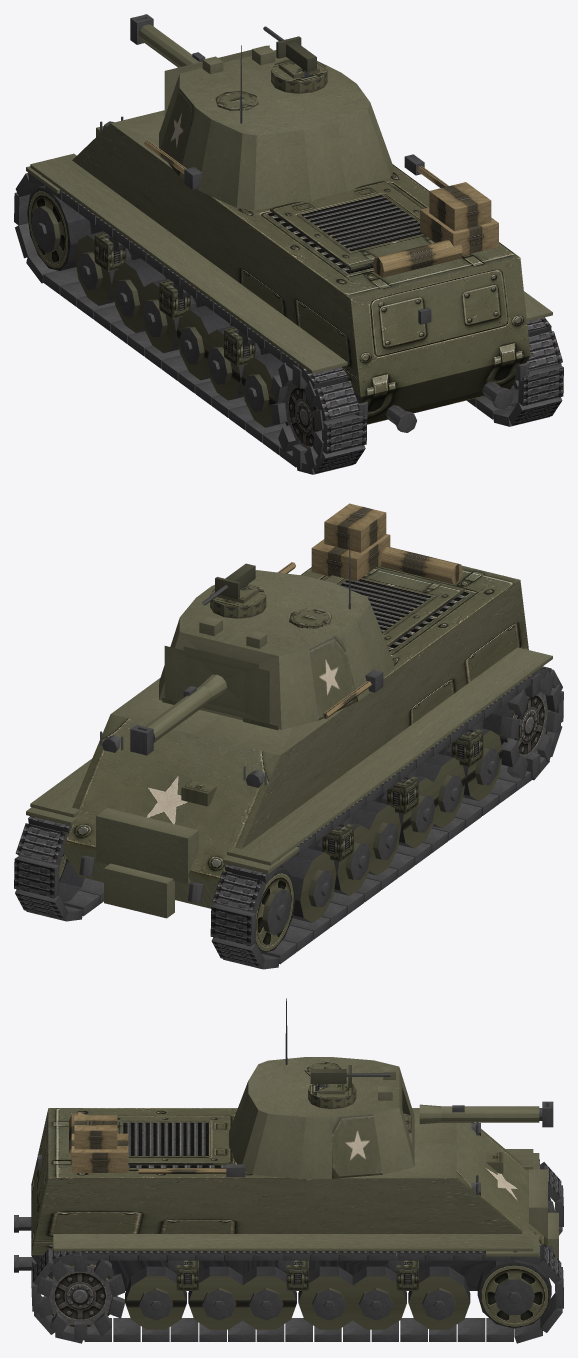
File: us_m4a3_val4k.glb
3 views of the same model, one above another, from view 1: azimuth 30°, elevation 25°; view 2: azimuth 150°, elevation 25°; view 3: azimuth 270°, elevation 25° (orthographic). The views are drawn at different scales.
Visible parts, largest first — view 1: Cosmetic_hull, Cosmetic_wheels, Cosmetic_track_left, Armor_hull_1_6, Armor_hull_1_4, Armor_hull_1_5, Armor_turret_roof, Armor_hull_1_7, Cosmetic_track_right, Cosmetic_turret, Armor_turret_wall_8, Armor_hull_roof_5 (+14 smaller); view 2: Cosmetic_hull, Cosmetic_wheels, Cosmetic_track_left, Armor_hull_1_6, Armor_hull_1_0, Armor_hull_1_1, Armor_turret_roof, Armor_hull_1_7, Cosmetic_track_right, Cosmetic_turret, Cosmetic_suspension, Armor_hull_roof_5 (+16 smaller); view 3: Cosmetic_wheels, Cosmetic_hull, Armor_hull_1_3, Cosmetic_track_right, Armor_hull_1_2, Armor_turret_roof, Armor_turret_wall_2, Armor_turret_wall_4, Cosmetic_turret, Armor_hull_1_1, Cosmetic_gun_recoil, Cosmetic_suspension (+17 smaller).
Part boxes in pixels (x1,y1,x2,y2): Cosmetic_hull: (26,116,552,432); Cosmetic_wheels: (27,185,561,471); Cosmetic_track_left: (14,172,367,474); Armor_hull_1_6: (204,193,360,396); Armor_hull_1_4: (435,258,530,376); Armor_hull_1_5: (350,278,445,396); Armor_turret_roof: (179,50,370,135); Armor_hull_1_7: (72,123,203,256); Cosmetic_track_right: (467,317,563,426); Cosmetic_turret: (202,26,327,123); Armor_turret_wall_8: (254,130,311,210); Armor_hull_roof_5: (255,208,434,298); Cosmetic_hull: (26,503,552,918); Cosmetic_wheels: (59,671,562,952); Cosmetic_track_left: (210,666,563,969); Armor_hull_1_6: (374,580,528,751); Armor_hull_1_0: (160,735,279,883); Armor_hull_1_1: (62,714,195,853); Armor_turret_roof: (179,570,370,656); Armor_hull_1_7: (242,692,373,848); Cosmetic_track_right: (14,816,103,921); Cosmetic_turret: (199,531,350,648); Cosmetic_suspension: (322,720,483,861); Armor_hull_roof_5: (388,565,519,655); Cosmetic_wheels: (36,1195,551,1340); Cosmetic_hull: (14,1112,558,1272); Armor_hull_1_3: (31,1178,297,1255); Cosmetic_track_right: (31,1241,563,1343); Armor_hull_1_2: (297,1178,521,1255); Armor_turret_roof: (248,1057,399,1117); Armor_turret_wall_2: (332,1114,382,1178); Armor_turret_wall_4: (252,1113,305,1178); Cosmetic_turret: (285,998,395,1109); Armor_hull_1_1: (456,1143,547,1247); Cosmetic_gun_recoil: (419,1101,553,1127); Cosmetic_suspension: (167,1253,418,1290).
Size of the model in its own units: 2.81 by 3.51 by 6.4.
Materials: 1 (1 with a texture image).
